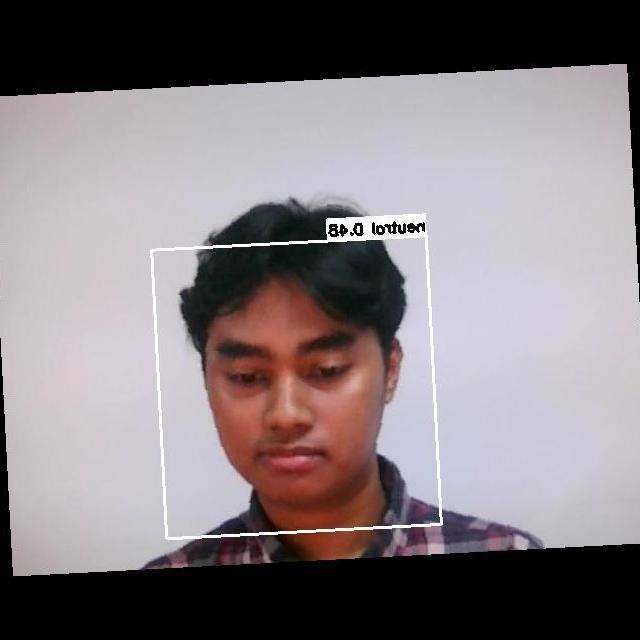Natural: (201, 321, 378, 490)
